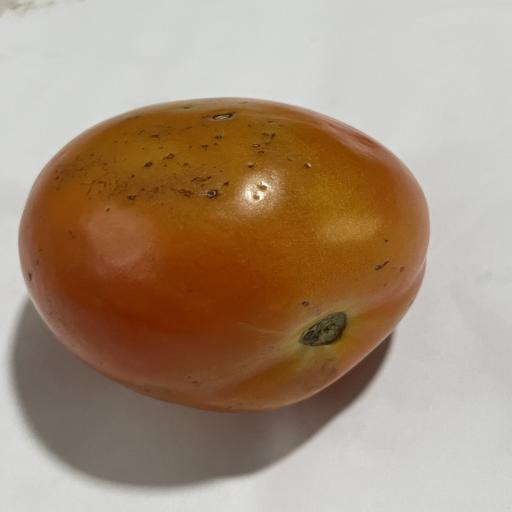overipe: (19, 98, 429, 412)
